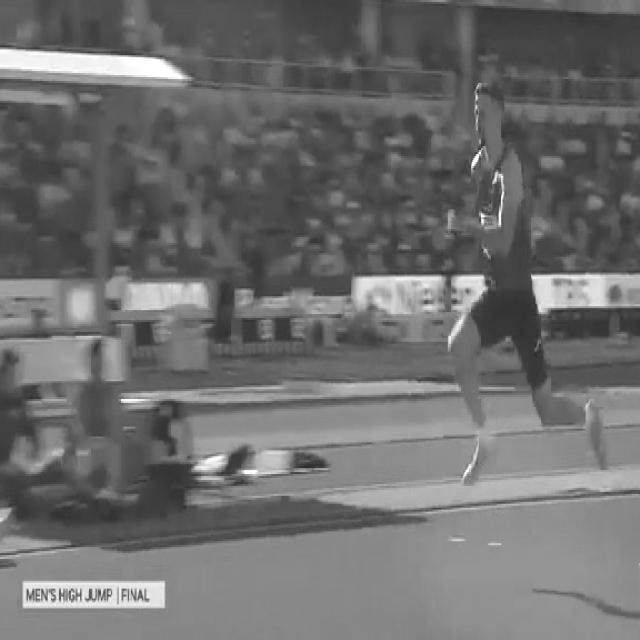run: (440, 69, 606, 490)
